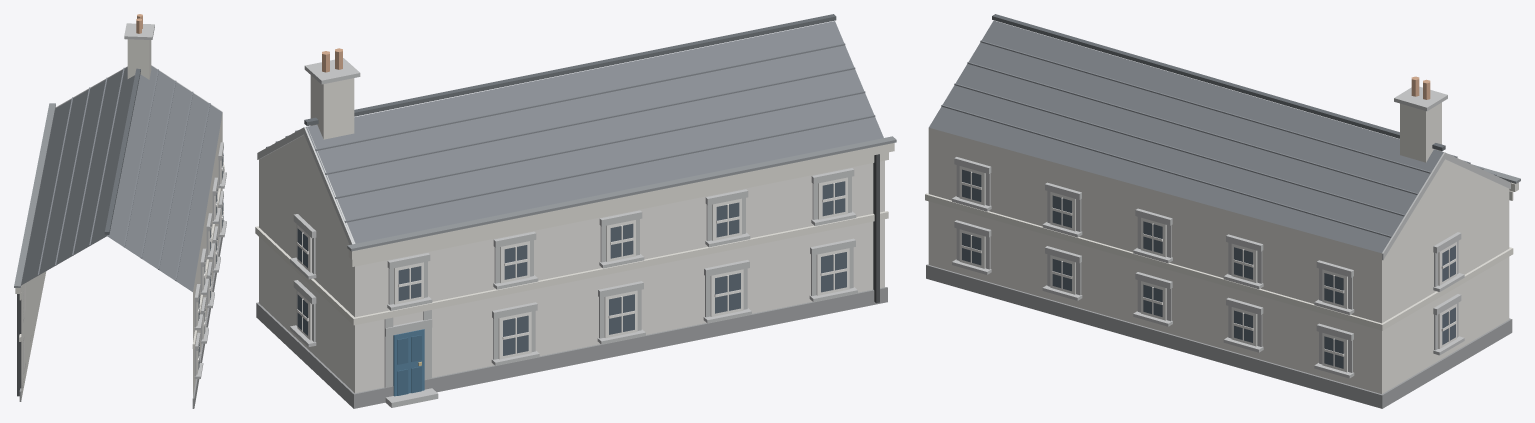
The picture shows the model from 3 angles, left to right: view 1: azimuth 30°, elevation 25°; view 2: azimuth 150°, elevation 25°; view 3: azimuth 270°, elevation 25°; orthographic projection. The views are drawn at different scales.
Visible parts, largest first — view 1: slate, slate_lt, harl, stone_band, lead, frame, slate_dk, chim_render, pipe, plinth, string; view 2: slate, harl, stone_band, string, plinth, frame, slate_lt, lead, slate_dk, chim_render, door_blue_p, pipe (+10 smaller); view 3: harl, slate, stone_band, plinth, frame, slate_lt, string, slate_dk, chim_render.
Boxes of the visible parts, x1,y1,x2,y2 form: slate: (21,65,222,291); slate_lt: (37,67,210,280); harl: (21,113,222,399); stone_band: (23,23,226,378); lead: (14,103,55,287); frame: (23,154,223,374); slate_dk: (104,68,140,234); chim_render: (127,39,151,79); pipe: (17,294,21,396); plinth: (19,220,224,408); string: (15,106,224,348); slate: (306,21,883,243); harl: (259,135,884,393); stone_band: (257,58,857,407); string: (255,143,894,325); plinth: (256,287,887,408); frame: (297,177,849,359); slate_lt: (266,43,875,222); lead: (347,136,896,251); slate_dk: (304,14,836,125); chim_render: (310,75,354,139); door_blue_p: (397,335,421,395); pipe: (873,154,879,303); harl: (928,128,1509,393); slate: (929,20,1443,253); stone_band: (952,86,1510,378); plinth: (926,264,1512,408); frame: (959,166,1456,372); slate_lt: (941,40,1496,237); string: (925,182,1518,330); slate_dk: (992,14,1445,150); chim_render: (1400,102,1441,162).
Bounding box in the file's own units: 15.16 × 9.44 × 17.91.
